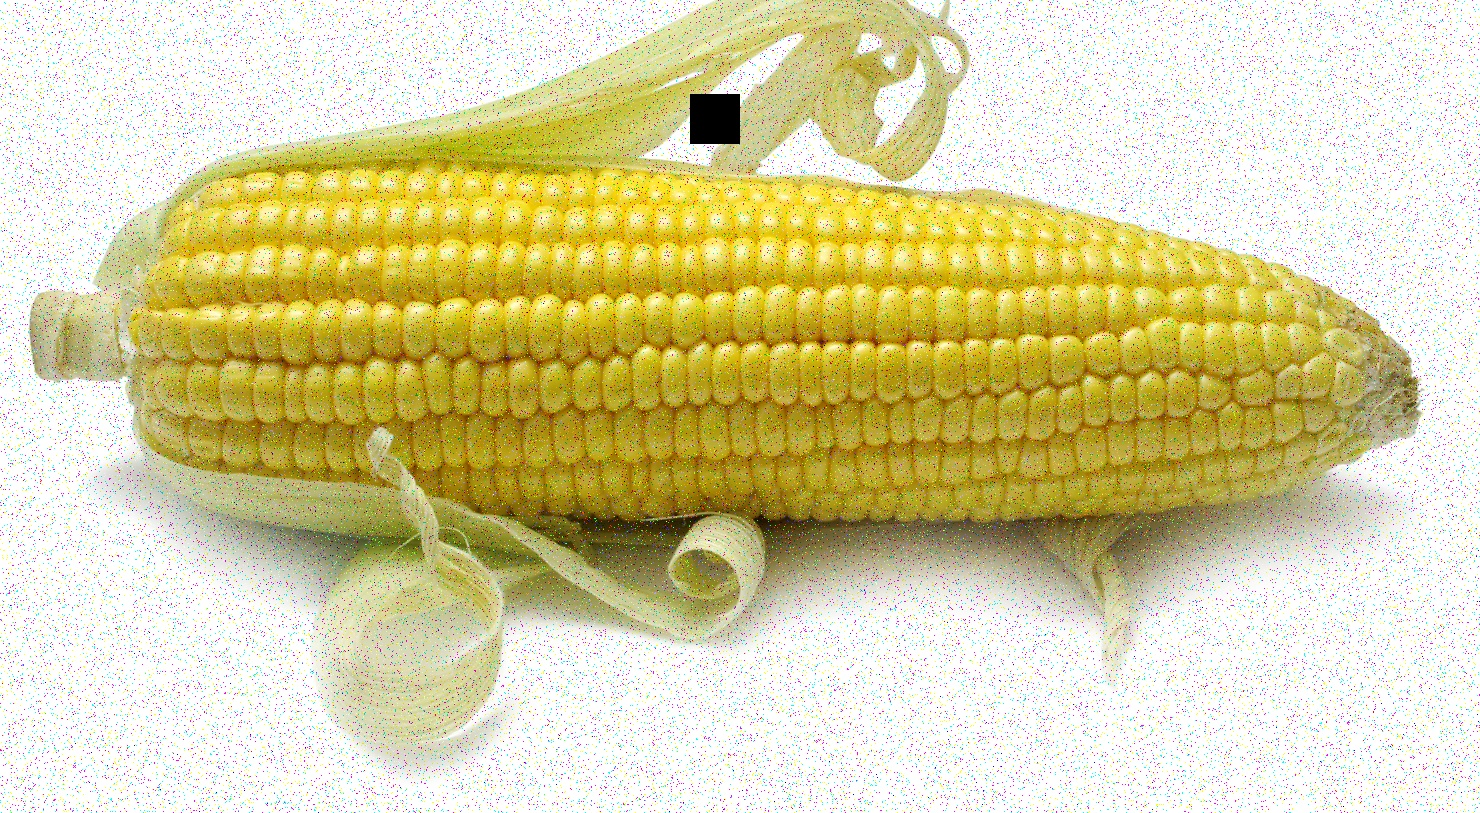corn: (27, 66, 1439, 569)
